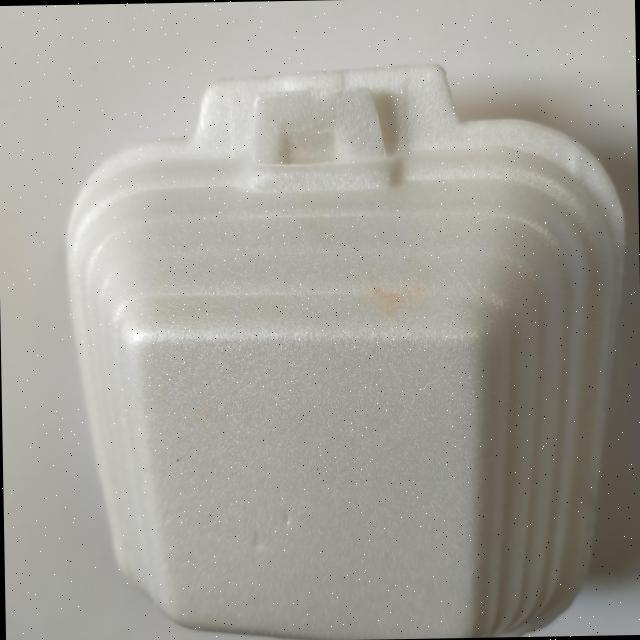styrofoam: (59, 57, 634, 640)
